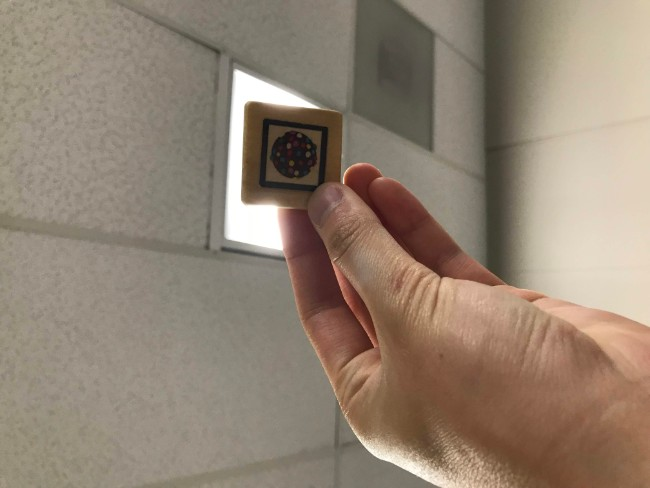cookie: (239, 99, 344, 208)
